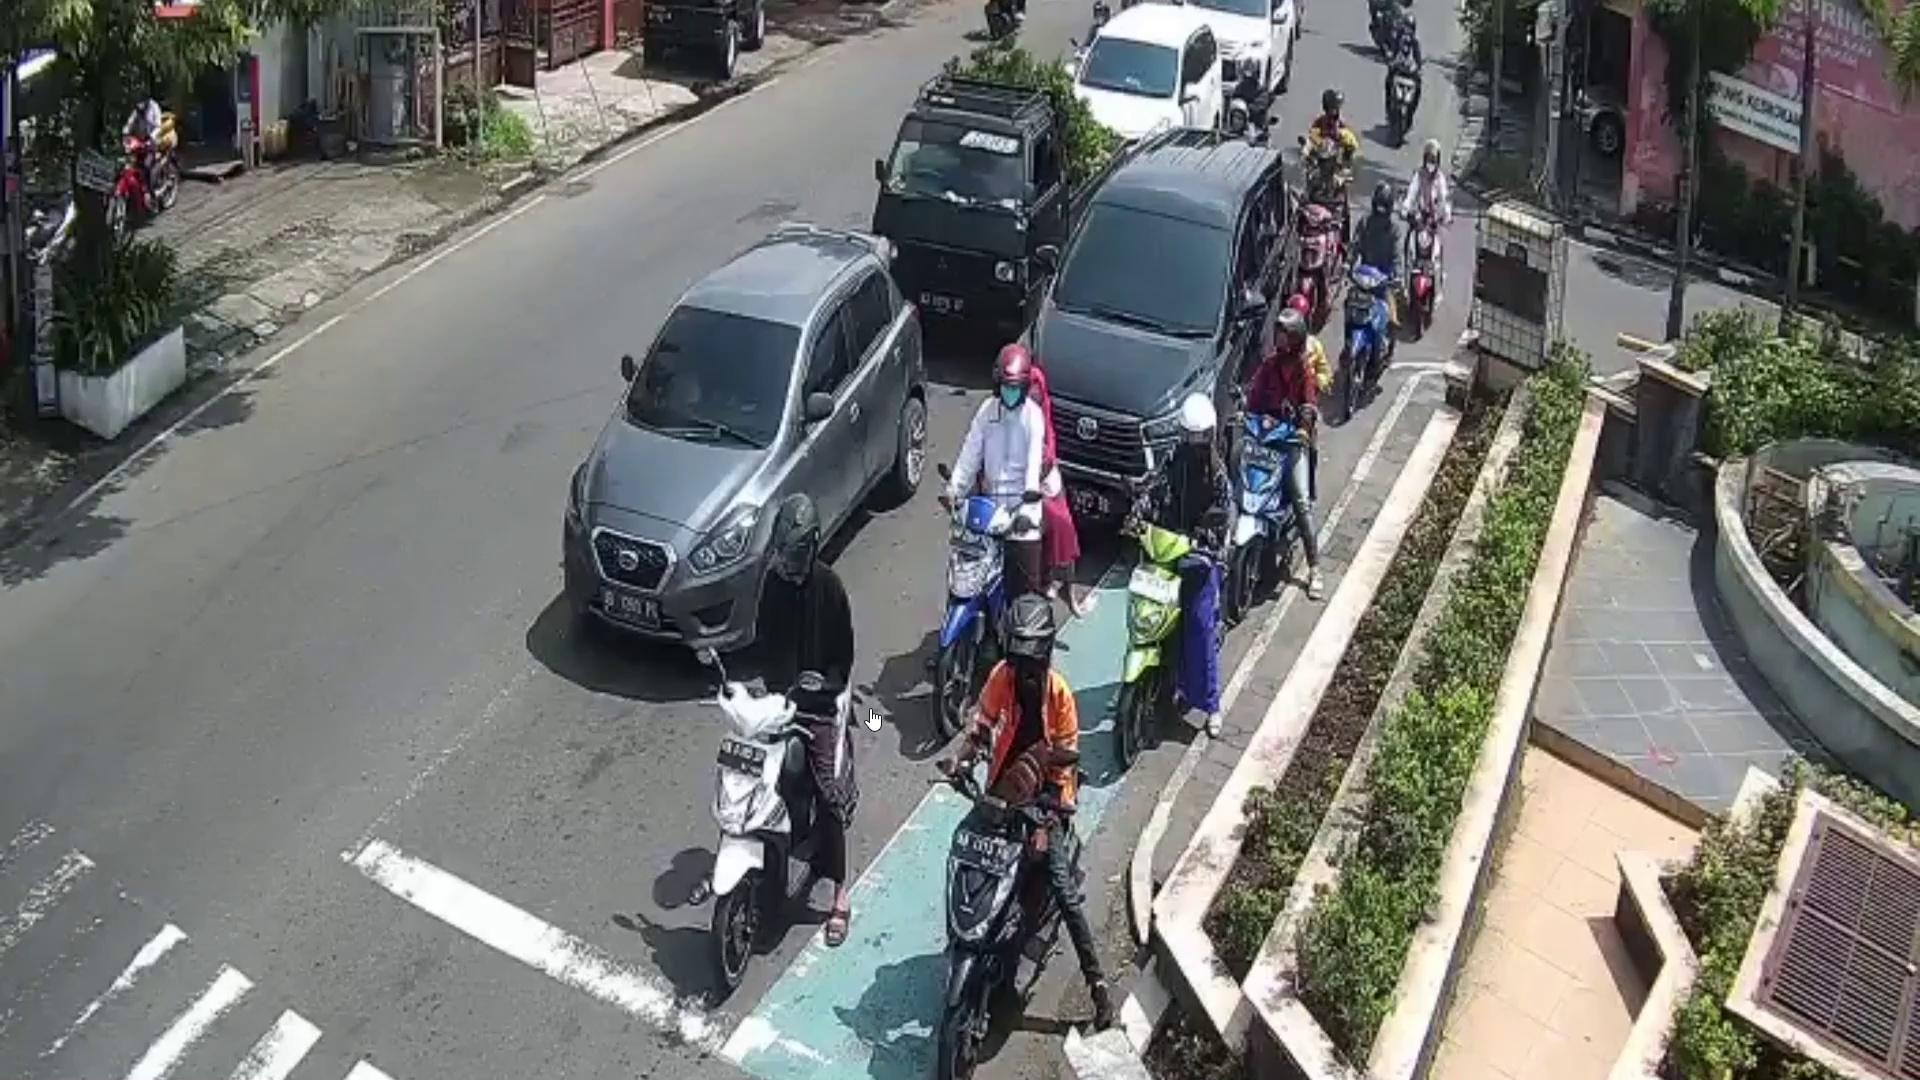car: (562, 222, 926, 663), (1022, 131, 1302, 543), (870, 71, 1127, 336), (1076, 0, 1229, 141), (1184, 0, 1295, 99)
motorbike: (704, 658, 869, 984), (939, 773, 1080, 1080), (1114, 517, 1197, 762), (943, 493, 1029, 725), (1229, 410, 1299, 611), (1344, 265, 1390, 397), (1406, 214, 1445, 330), (1387, 55, 1419, 137)
